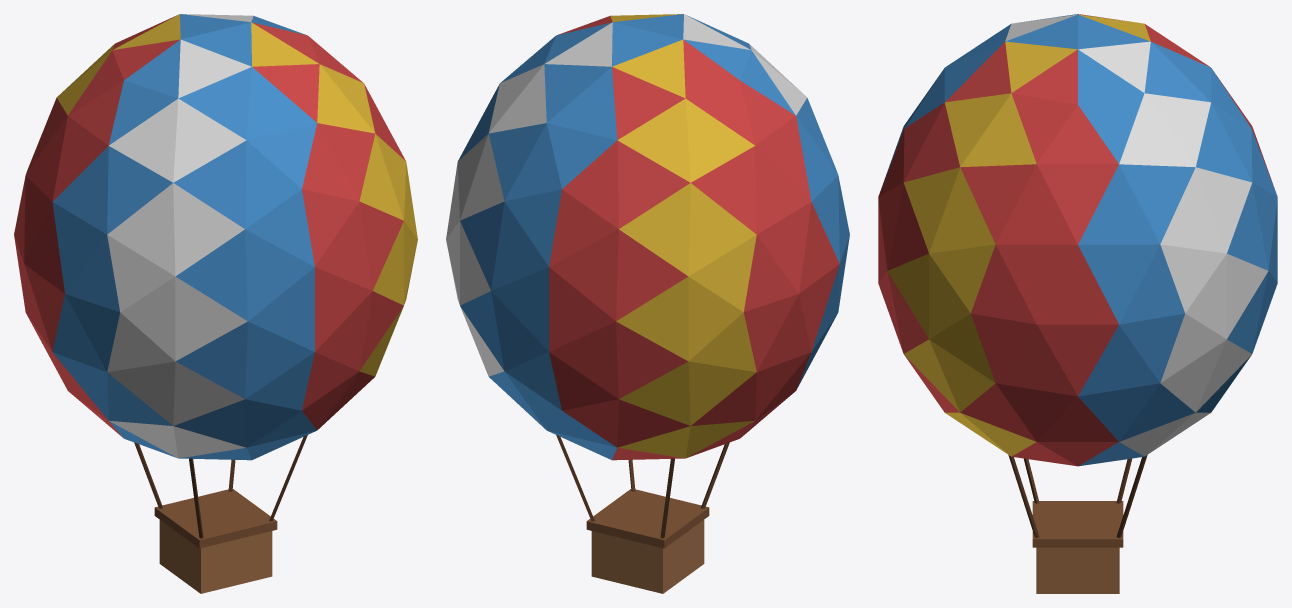
File: balloon.glb
3 renders of one model, left to right at view 1: azimuth 30°, elevation 25°; view 2: azimuth 150°, elevation 25°; view 3: azimuth 270°, elevation 25°, orthographic.
Visible parts, largest first — view 1: Craft; view 2: Craft; view 3: Craft.
Part boxes in pixels (x1,y1,x2,y2): Craft: (14, 14, 417, 593); Craft: (446, 14, 849, 593); Craft: (878, 14, 1277, 593).
Bounding box in the file's own units: 4.31 × 6.48 × 4.31.
